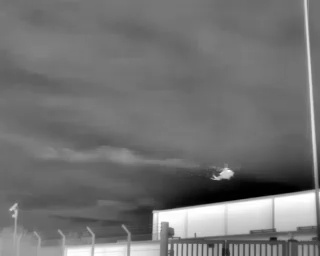HELICOPTER: (200, 159, 247, 186)
